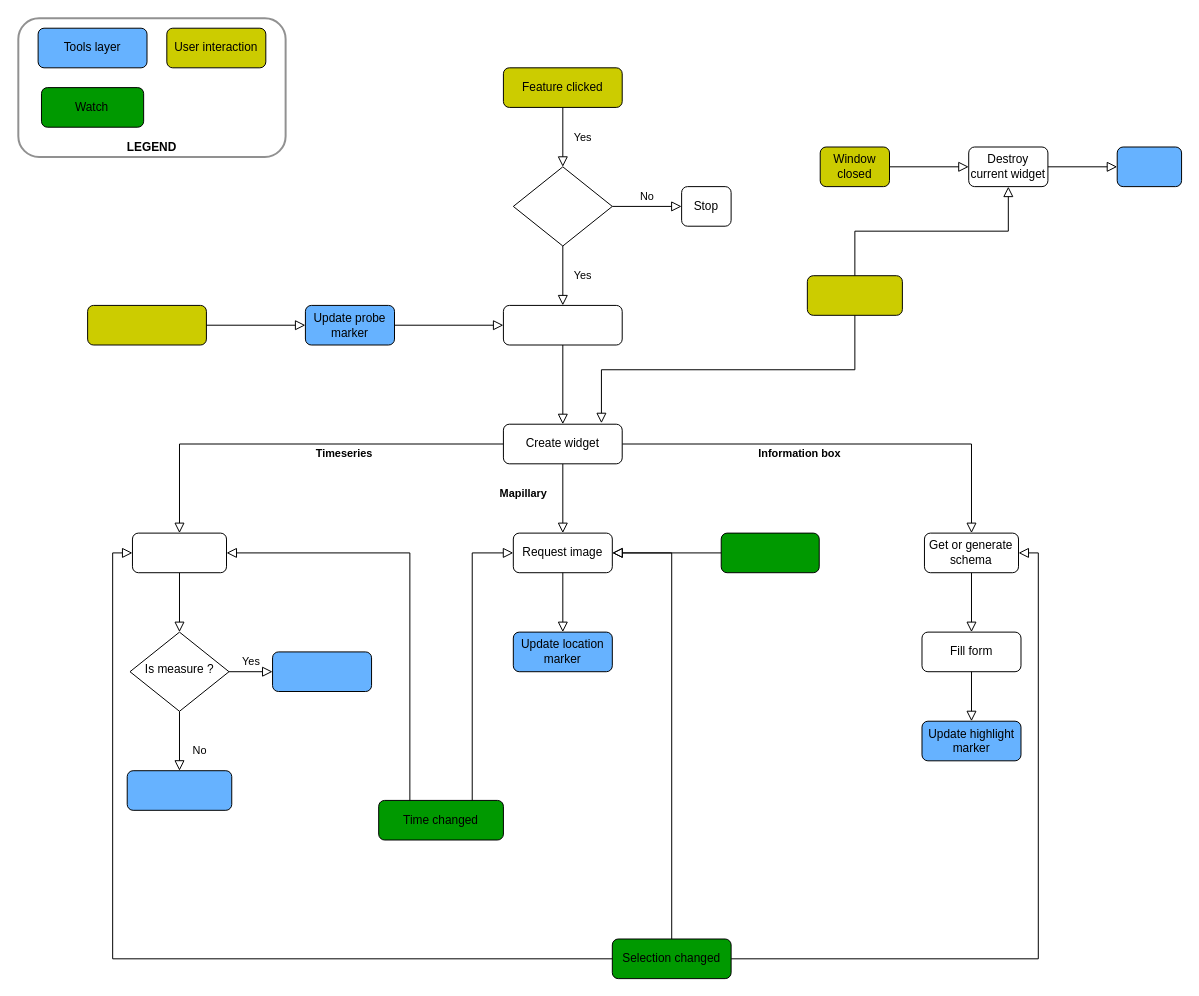
The diagram is 1199 pixels wide and 996 high, and some of its shapes have lost their labels. Here are the shapes that lost their labels. From the top down, the centre of each, then its label:
(x=1149, y=166): Remove marker
(x=562, y=206): Is layer selectable ?
(x=854, y=295): Window widget changed
(x=146, y=324): Probe location selected
(x=562, y=324): Update selection
(x=179, y=552): Perform probing
(x=769, y=552): Position changed
(x=322, y=671): Update weather marker
(x=179, y=790): Update measure marker
